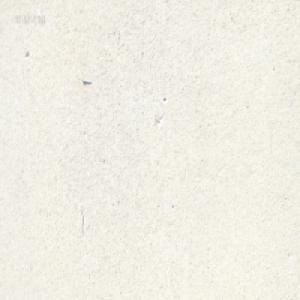Nail: (81, 77, 91, 83)
